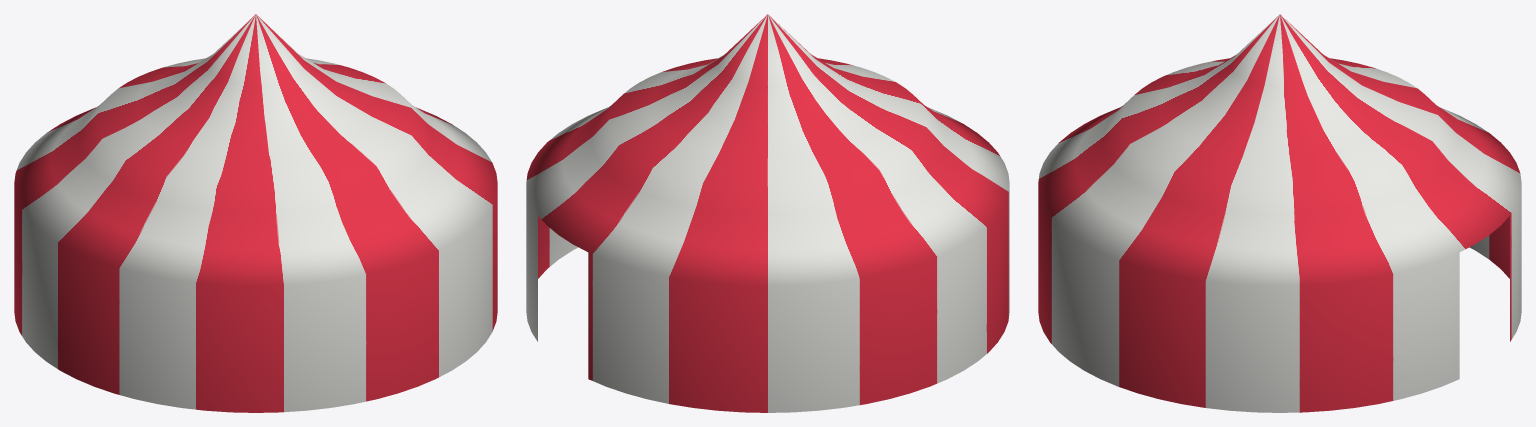
The model's file is CircuesTent.fbx.
3 views of the same model, side by side, from view 1: azimuth 30°, elevation 25°; view 2: azimuth 150°, elevation 25°; view 3: azimuth 270°, elevation 25° (orthographic).
Visible parts, largest first — view 1: polySurface2; view 2: polySurface2; view 3: polySurface2.
Boxes of the visible parts, x1,y1,x2,y2 form: polySurface2: (14,14,497,412); polySurface2: (526,14,1009,412); polySurface2: (1038,14,1521,412).
Bounding box in the file's own units: 2333 × 1580 × 2333.
